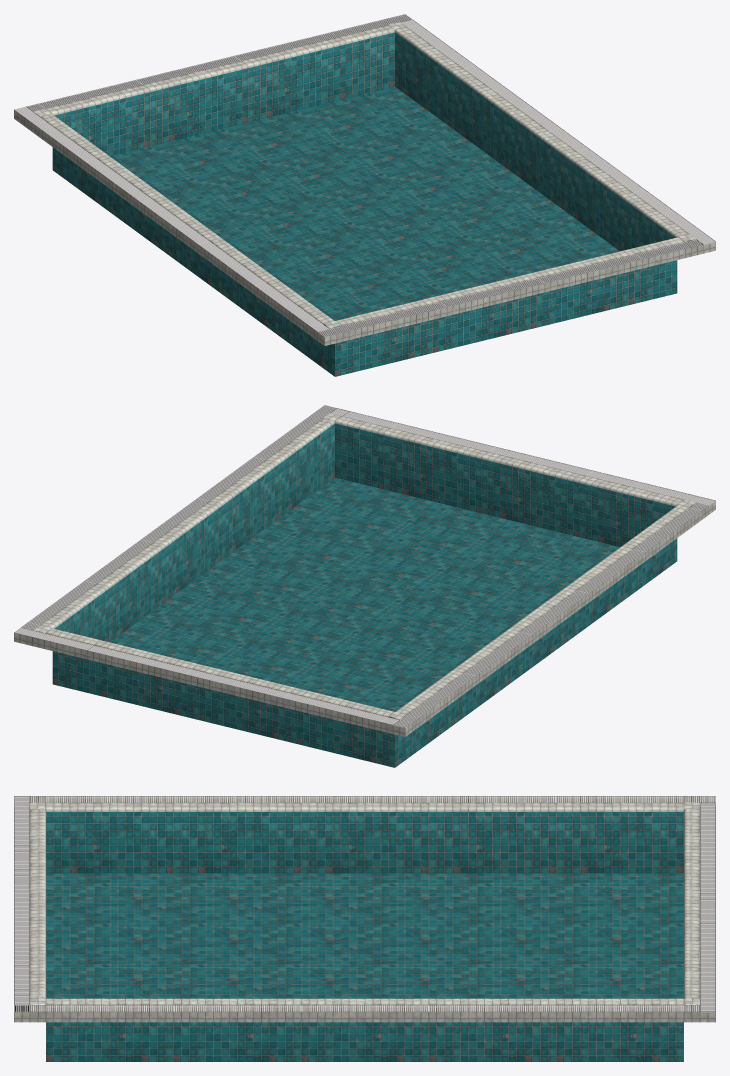
The model's file is sala_torre_scivoli.glb.
The picture shows the model from 3 angles, top to bottom: view 1: azimuth 30°, elevation 25°; view 2: azimuth 150°, elevation 25°; view 3: azimuth 270°, elevation 25°; orthographic projection. The views are drawn at different scales.
Visible parts, largest first — view 1: arrivo_bordi, sala_vasca_arrivo_fondo; view 2: arrivo_bordi, sala_vasca_arrivo_fondo; view 3: arrivo_bordi, sala_vasca_arrivo_fondo.
Boxes of the visible parts, x1,y1,x2,y2 form: arrivo_bordi: [14, 14, 715, 376]; sala_vasca_arrivo_fondo: [110, 86, 619, 320]; arrivo_bordi: [14, 405, 715, 767]; sala_vasca_arrivo_fondo: [110, 477, 619, 711]; arrivo_bordi: [14, 796, 715, 1061]; sala_vasca_arrivo_fondo: [46, 873, 683, 998].
Size of what is drawn, in the model's own units: 8 by 1.11 by 11.
Materials: 4 (3 with a texture image).
